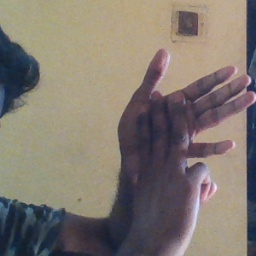M: (97, 47, 253, 235)
